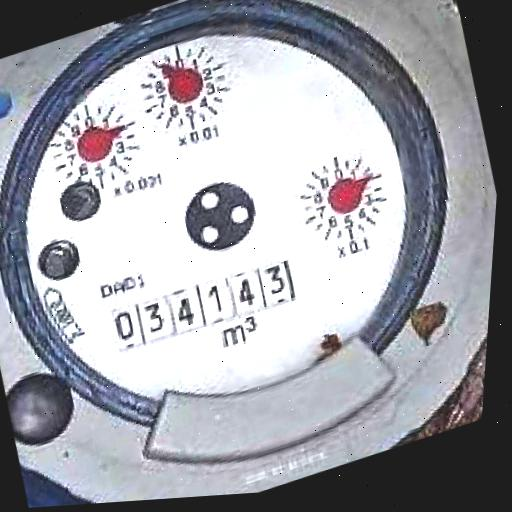0: (106, 305, 145, 353)
1: (196, 278, 235, 324)
3: (135, 295, 176, 341), (256, 259, 293, 307)
4: (227, 268, 266, 316), (168, 287, 204, 332)
border_water_meter_number: (103, 250, 301, 361)
